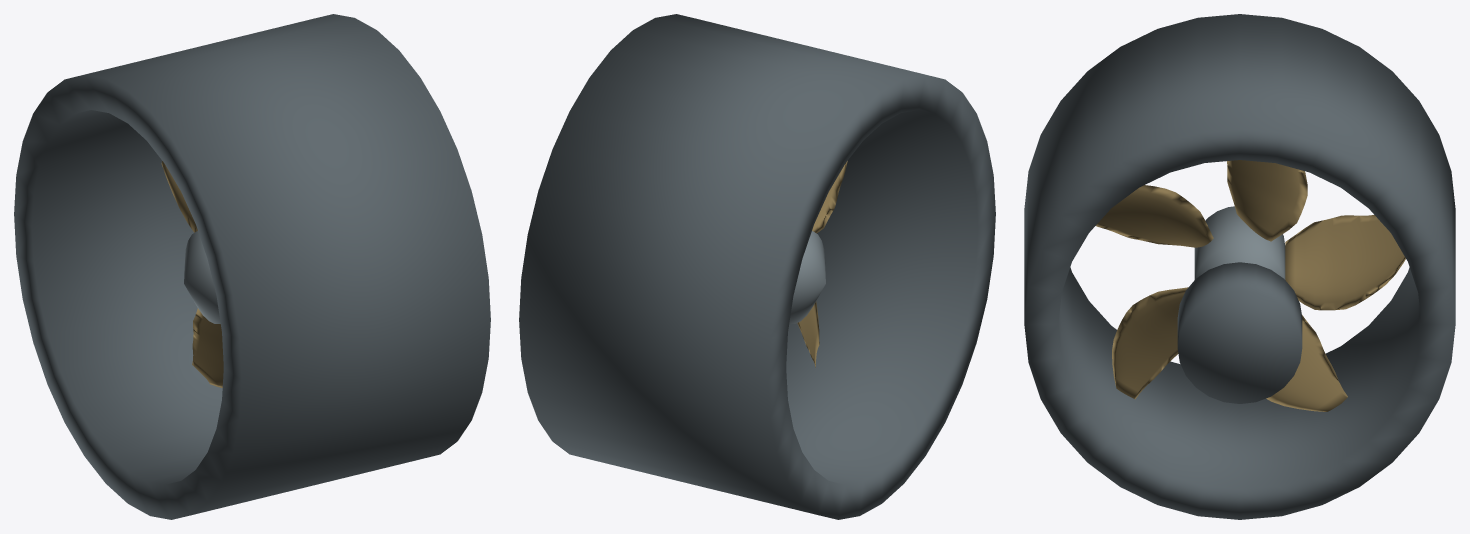
Rendered from THRUSTER_TUNNEL_COMBINED.fbx.
3 views of the same model, side by side, from view 1: azimuth 30°, elevation 25°; view 2: azimuth 150°, elevation 25°; view 3: azimuth 270°, elevation 25° (orthographic). The views are drawn at different scales.
Parts seen in each view (by area): view 1: THRUSTER_TUNNEL.001; view 2: THRUSTER_TUNNEL.001; view 3: THRUSTER_TUNNEL.001.
Part boxes in pixels (bbox=[...]): THRUSTER_TUNNEL.001: bbox=[14, 14, 490, 519]; THRUSTER_TUNNEL.001: bbox=[519, 14, 995, 519]; THRUSTER_TUNNEL.001: bbox=[1024, 14, 1455, 519].
Bounding box in the file's own units: 144 × 190 × 190.
